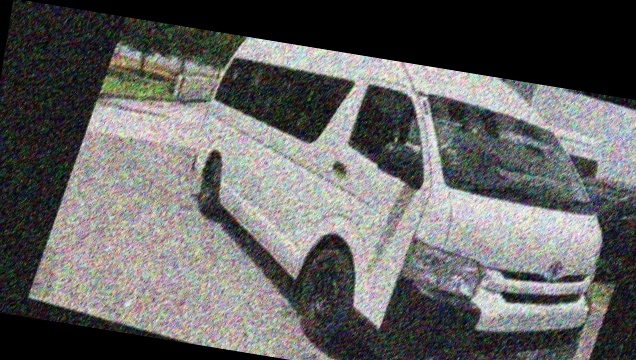van: (122, 25, 636, 360)
